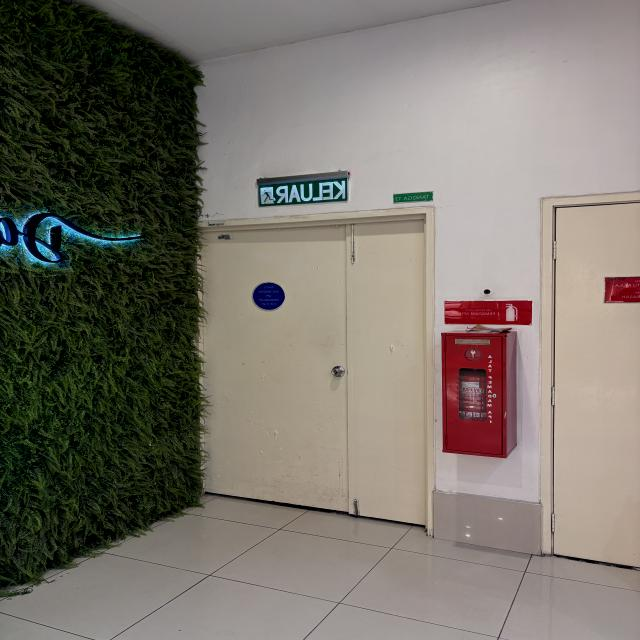door: (195, 208, 437, 537)
